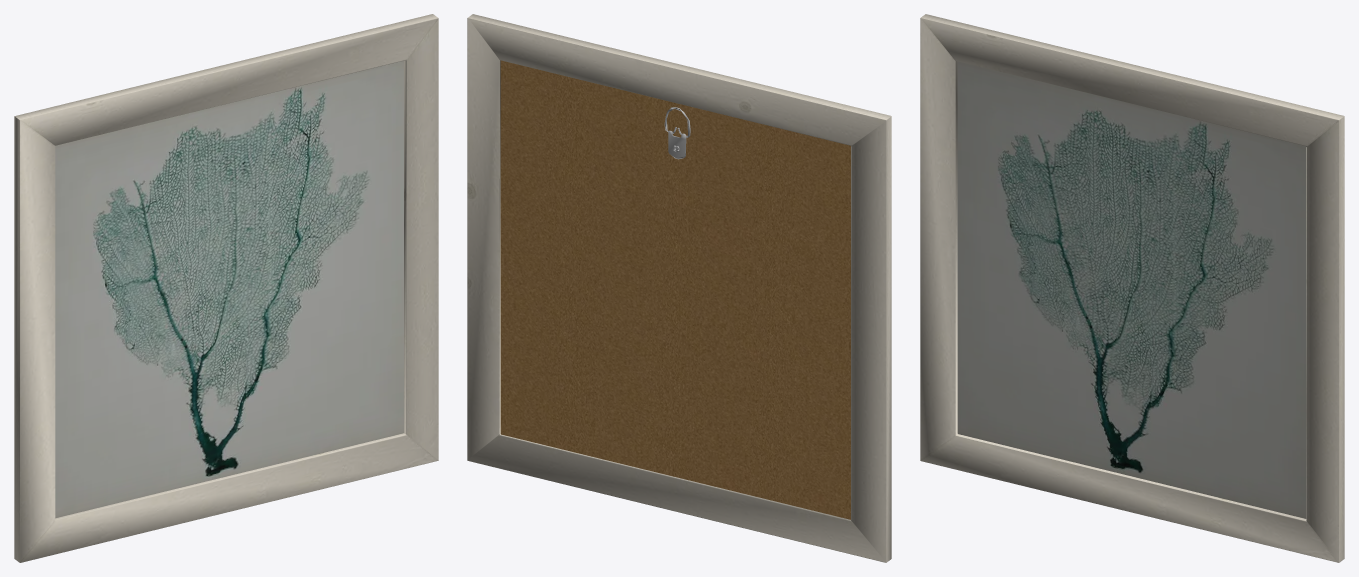
Rendered from abo-B075YMJBZ8.glb.
3 views of the same model, side by side, from view 1: azimuth 30°, elevation 25°; view 2: azimuth 150°, elevation 25°; view 3: azimuth 330°, elevation 25° (orthographic).
Visible parts, largest first — view 1: RootNode; view 2: RootNode; view 3: RootNode.
Part boxes in pixels (box(x1,y1,x2,y2)): RootNode: box(14, 14, 438, 562); RootNode: box(467, 14, 891, 562); RootNode: box(920, 14, 1344, 562).
Size of the model in its own units: 0.5708 by 0.5767 by 0.0146.
1 material, 1 textured.
